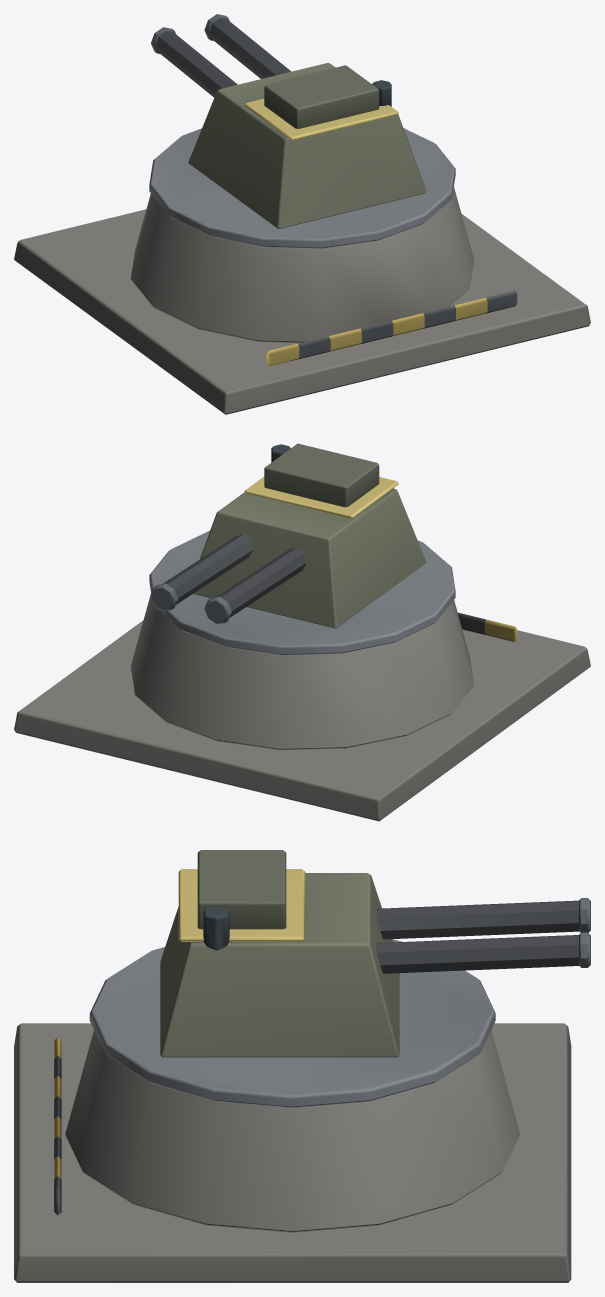
The model's file is at_turret.glb.
The picture shows the model from 3 angles, top to bottom: view 1: azimuth 30°, elevation 25°; view 2: azimuth 150°, elevation 25°; view 3: azimuth 270°, elevation 25°; orthographic projection. The views are drawn at different scales.
Visible parts, largest first — view 1: Body, Turret; view 2: Body, Turret; view 3: Body, Turret.
Boxes of the visible parts, box(x1,y1,x2,y2) form: Body: box(14, 128, 590, 414); Turret: box(151, 14, 426, 228); Body: box(14, 530, 590, 821); Turret: box(151, 443, 426, 628); Body: box(14, 939, 571, 1282); Turret: box(160, 850, 590, 1057).
Bounding box in the file's own units: 4.39 × 2.53 × 4.55.
